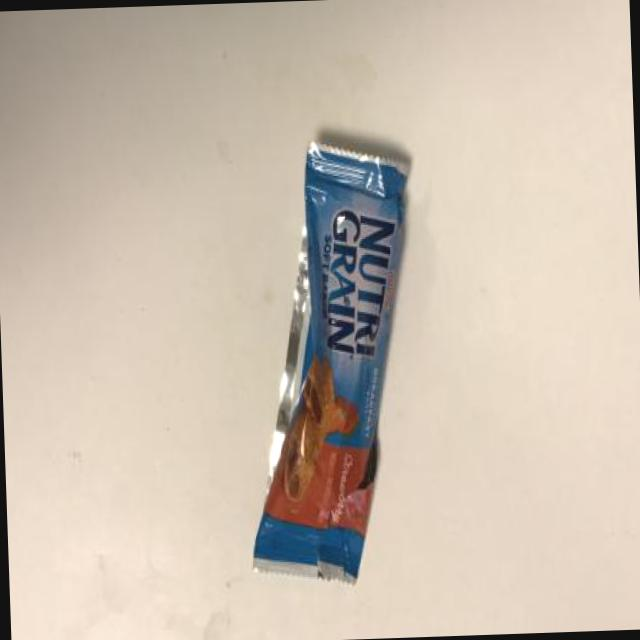giay_goi: (253, 141, 408, 584)
